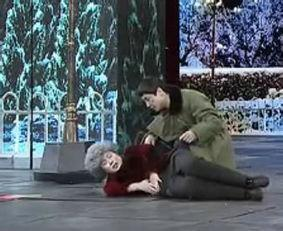Fall-Detected: (84, 134, 278, 200)
